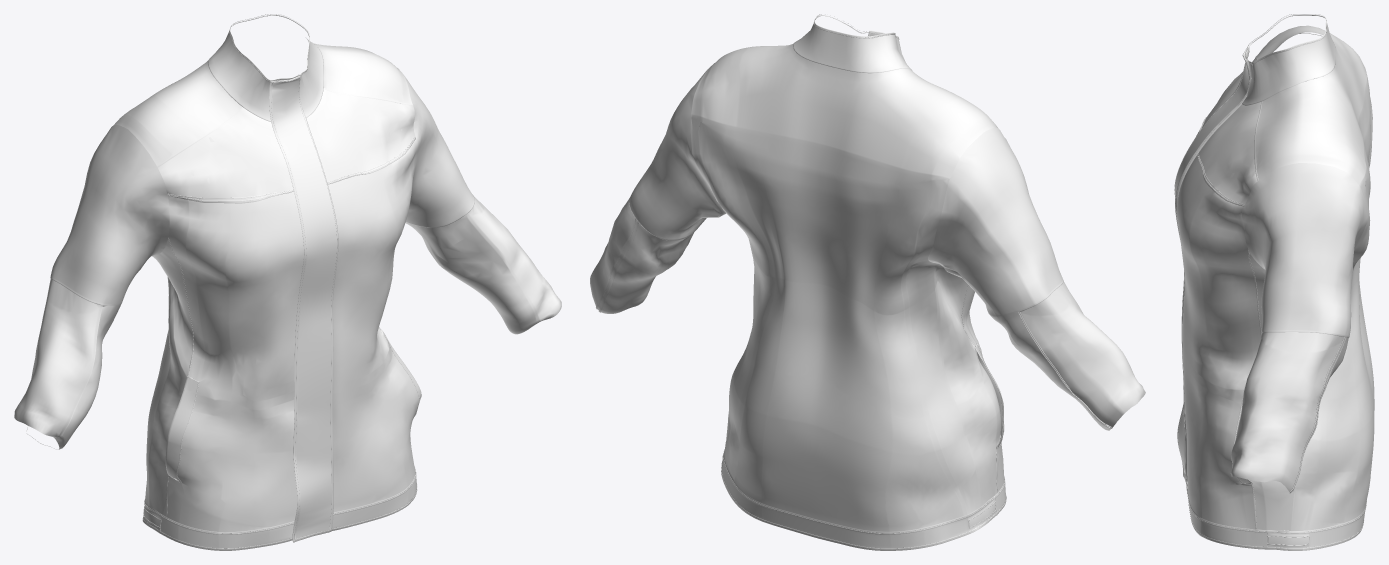
The model's file is Jac_Main.glb.
3 renders of one model, left to right at view 1: azimuth 30°, elevation 25°; view 2: azimuth 150°, elevation 25°; view 3: azimuth 270°, elevation 25°, orthographic. The views are drawn at different scales.
Parts seen in each view (by area): view 1: Jac_Main.001, Jac_Main1_3.001; view 2: Jac_Main.001, Jac_Main1_3.001; view 3: Jac_Main.001, Jac_Main1_3.001.
Part boxes in pixels (x1,y1,x2,y2): Jac_Main.001: (14, 14, 561, 550); Jac_Main1_3.001: (26, 15, 419, 549); Jac_Main.001: (590, 14, 1145, 550); Jac_Main1_3.001: (596, 15, 1109, 549); Jac_Main.001: (1175, 14, 1374, 550); Jac_Main1_3.001: (1174, 15, 1366, 549).
Bounding box in the file's own units: 1.5 × 1.29 × 0.4884.
Materials: 2 (2 with a texture image).
